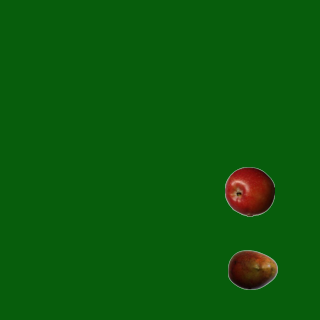Apple Braeburn: (224, 166, 274, 216)
Mango Red: (227, 244, 277, 294)
